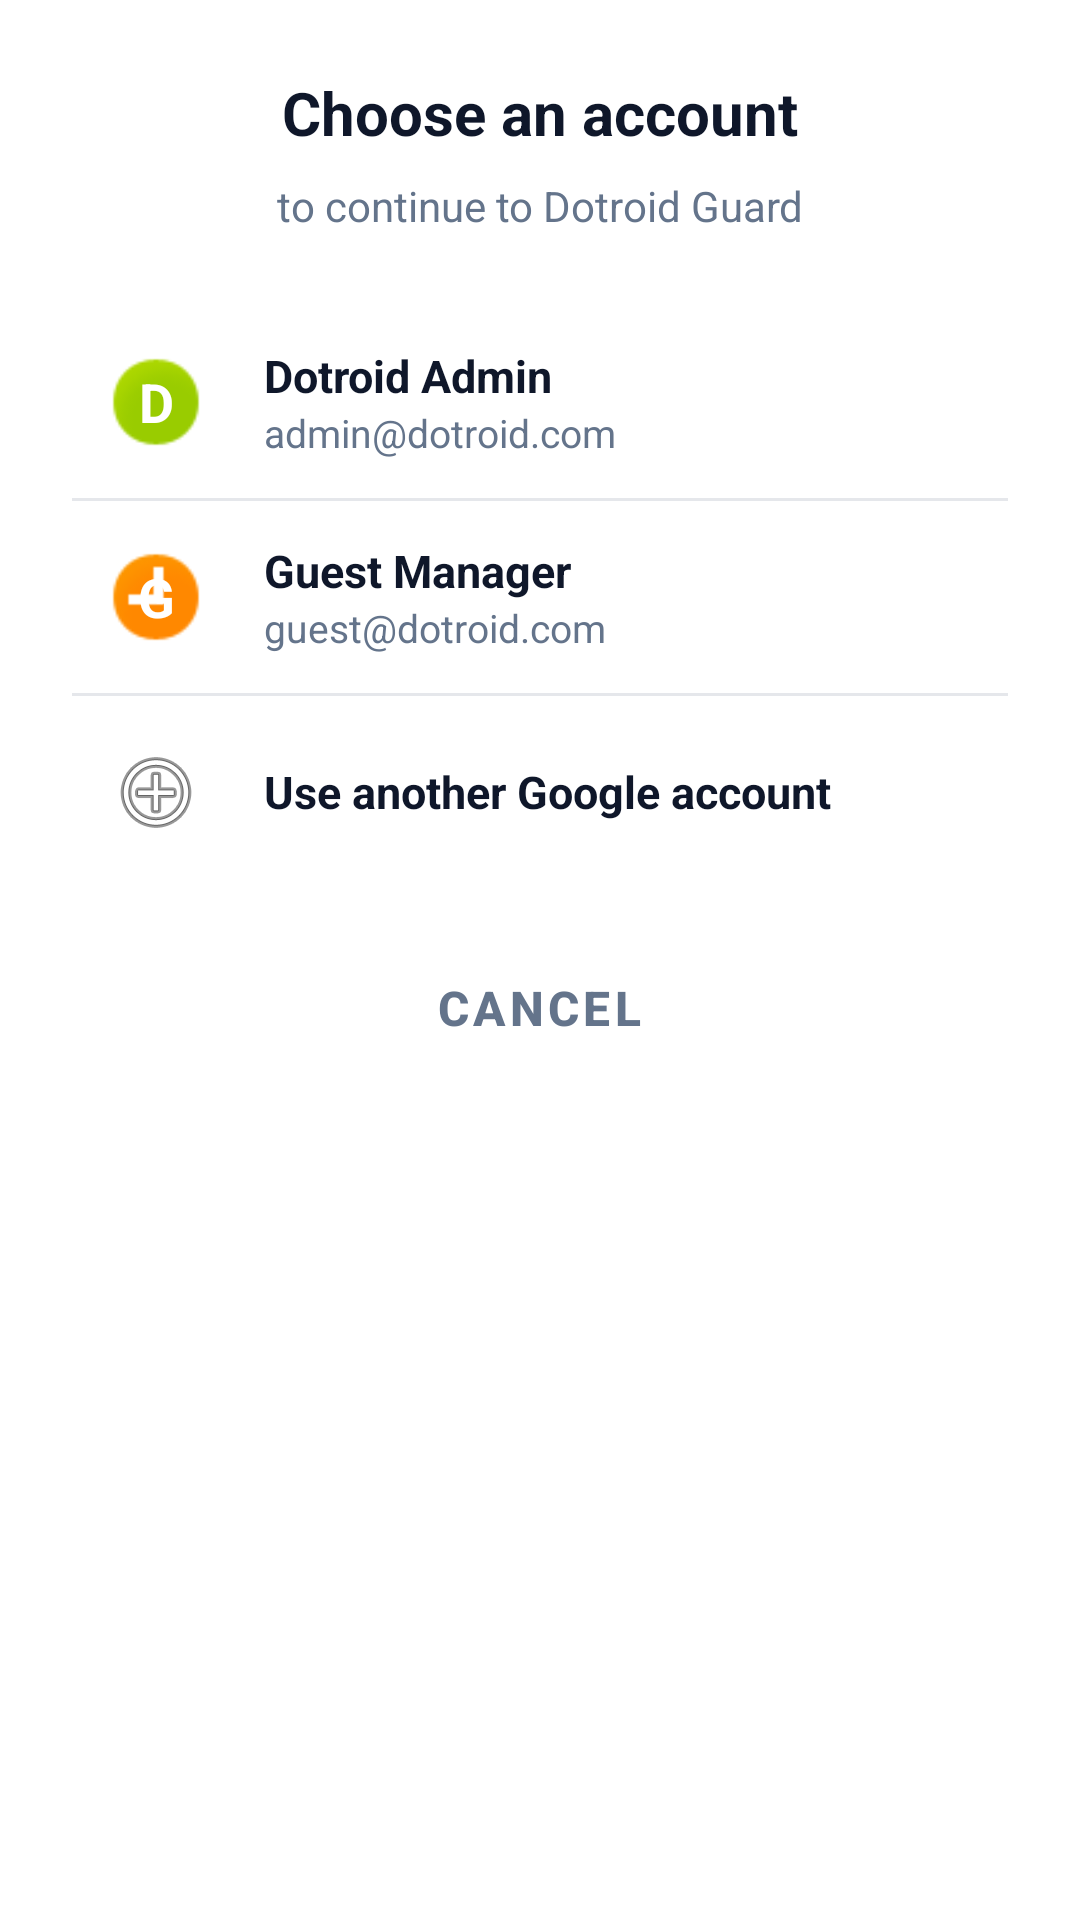

Screen size 1080 x 1920. Icon name, then its center in pixels as point (x, y):
add: point (156, 792)
